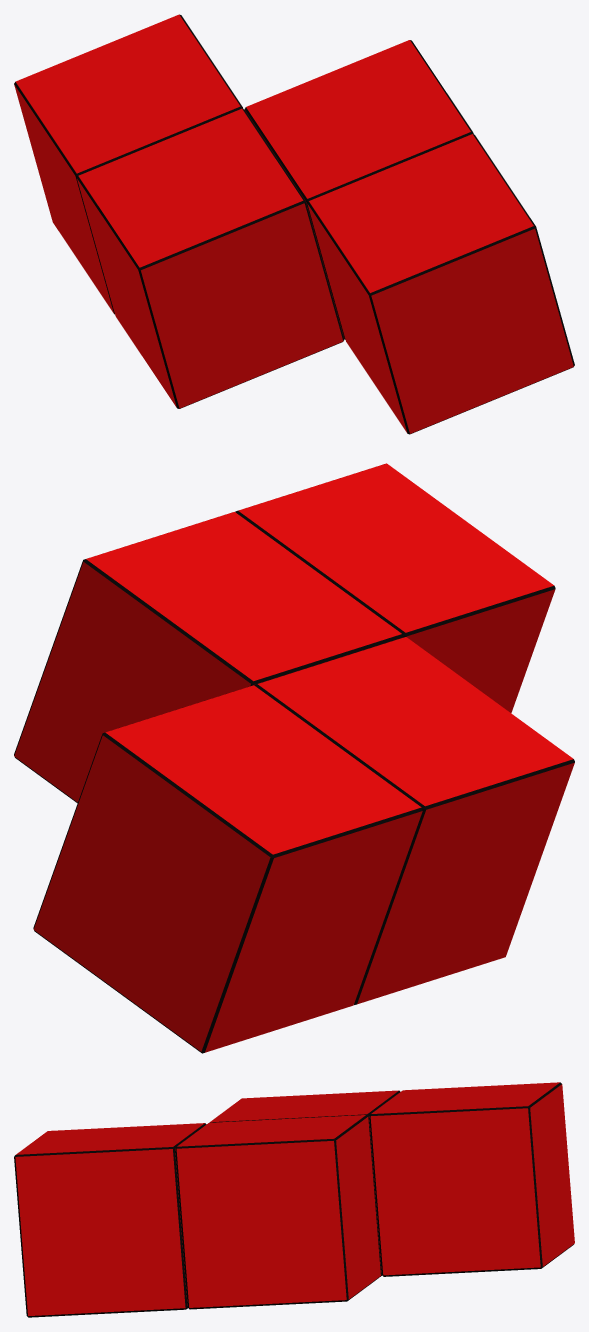
3 renders of one model, top to bottom at view 1: azimuth 30°, elevation 25°; view 2: azimuth 150°, elevation 25°; view 3: azimuth 270°, elevation 25°, orthographic. The views are drawn at different scales.
Parts seen in each view (by area): view 1: Cube.029, Cube.027, Cube.028, Cube.026; view 2: Cube.028, Cube.029, Cube.026, Cube.027; view 3: Cube.026, Cube.028, Cube.027, Cube.029.
Part boxes in pixels (x1=…): Cube.029: x1=77, y1=108, x2=344, y2=408; Cube.027: x1=307, y1=134, x2=574, y2=434; Cube.028: x1=14, y1=14, x2=243, y2=314; Cube.026: x1=244, y1=40, x2=473, y2=339; Cube.028: x1=33, y1=685, x2=422, y2=1053; Cube.029: x1=254, y1=637, x2=574, y2=1004; Cube.026: x1=14, y1=512, x2=403, y2=803; Cube.027: x1=235, y1=463, x2=555, y2=712; Cube.026: x1=175, y1=1115, x2=380, y2=1309; Cube.028: x1=369, y1=1082, x2=574, y2=1276; Cube.027: x1=14, y1=1123, x2=206, y2=1317; Cube.029: x1=209, y1=1090, x2=400, y2=1276.
Bounding box in the file's own units: 233 × 162 × 340.
